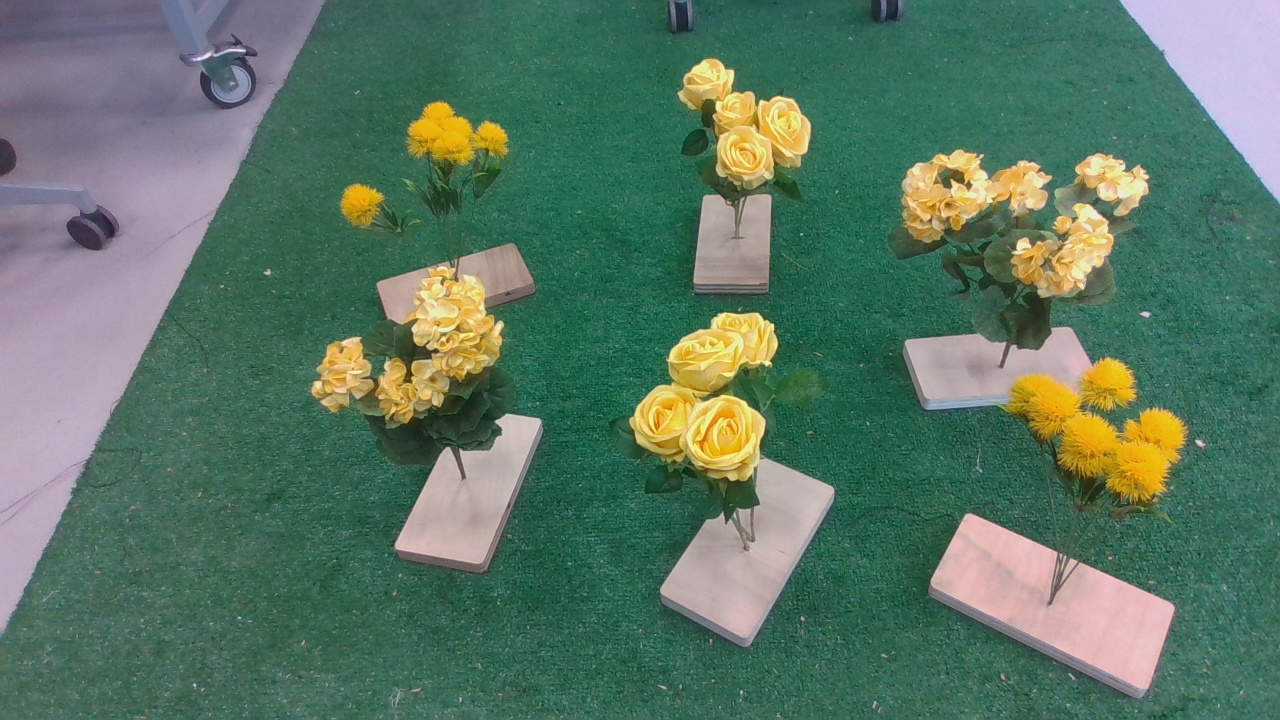dandelion: (1000, 361, 1201, 532), (333, 103, 519, 242)
geranium: (898, 129, 1160, 356), (308, 268, 522, 480)
rose: (608, 308, 791, 537), (675, 56, 825, 222)
